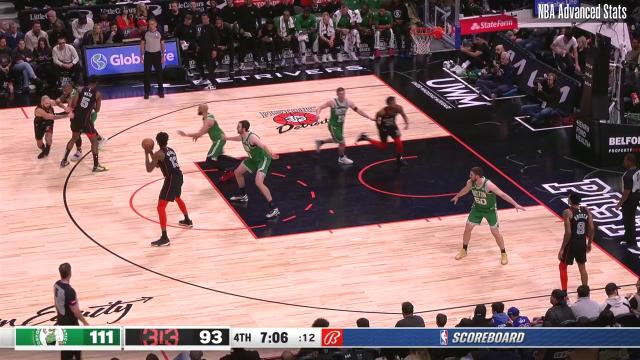3_sx: (380, 80, 390, 88)
b_sx: (366, 69, 380, 81)
free_adx: (253, 231, 267, 246)
free_asx: (190, 156, 202, 168)
free_bdx: (533, 198, 545, 210)
free_bsx: (444, 131, 460, 143)
mid_sx: (18, 103, 27, 112)
referee: (52, 262, 88, 360), (138, 19, 170, 99), (614, 154, 640, 246)
team: (142, 130, 194, 248), (64, 78, 108, 172), (556, 192, 594, 296), (357, 96, 411, 167), (30, 96, 60, 158)
team1: (452, 168, 522, 264), (230, 120, 280, 219), (178, 106, 232, 180), (57, 82, 105, 162), (315, 86, 359, 164)
timer: (256, 324, 292, 348)
